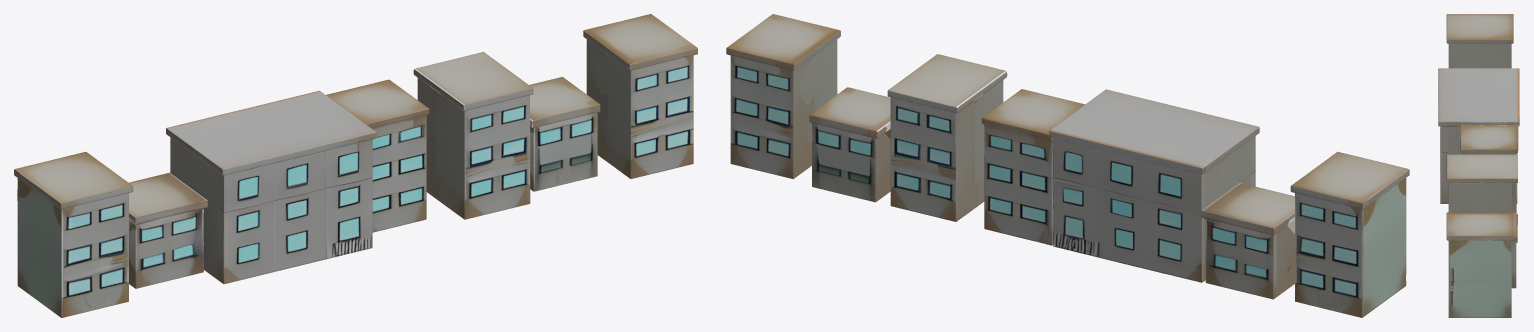
File: base_basic_pbr.fbx
3 renders of one model, left to right at view 1: azimuth 30°, elevation 25°; view 2: azimuth 150°, elevation 25°; view 3: azimuth 270°, elevation 25°, orthographic. The views are drawn at different scales.
Visible parts, largest first — view 1: model; view 2: model; view 3: model.
Part boxes in pixels (box(x1,y1,x2,y2)): model: box(14, 14, 697, 317); model: box(726, 14, 1409, 317); model: box(1438, 14, 1519, 317).
Size of the model in its own units: 178 by 31.22 by 27.53.
Materials: 1 (1 with a texture image).
